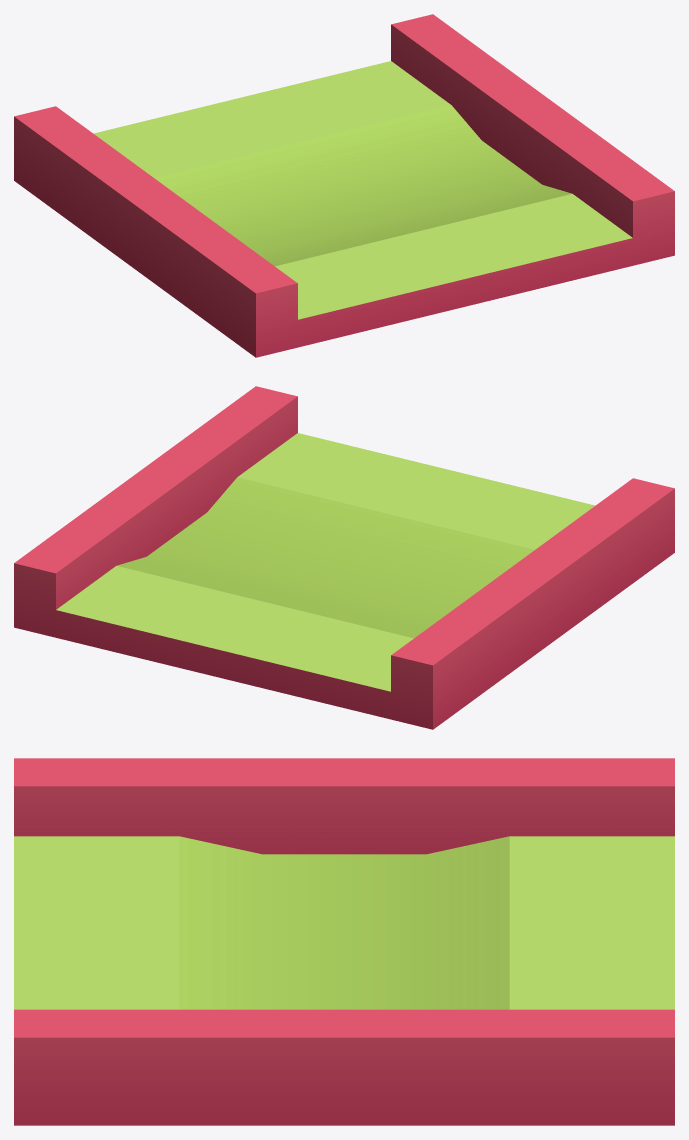
Rendered from crest.gltf.
3 views of the same model, one above another, from view 1: azimuth 30°, elevation 25°; view 2: azimuth 150°, elevation 25°; view 3: azimuth 270°, elevation 25° (orthographic). The views are drawn at different scales.
Parts seen in each view (by area): view 1: crest; view 2: crest; view 3: crest.
Part boxes in pixels (x1,y1,x2,y2): crest: (14,14,674,357); crest: (14,386,674,729); crest: (14,758,674,1125).
Bounding box in the file's own units: 0.9999 × 0.1467 × 0.9999.
Materials: 1 (1 with a texture image).
